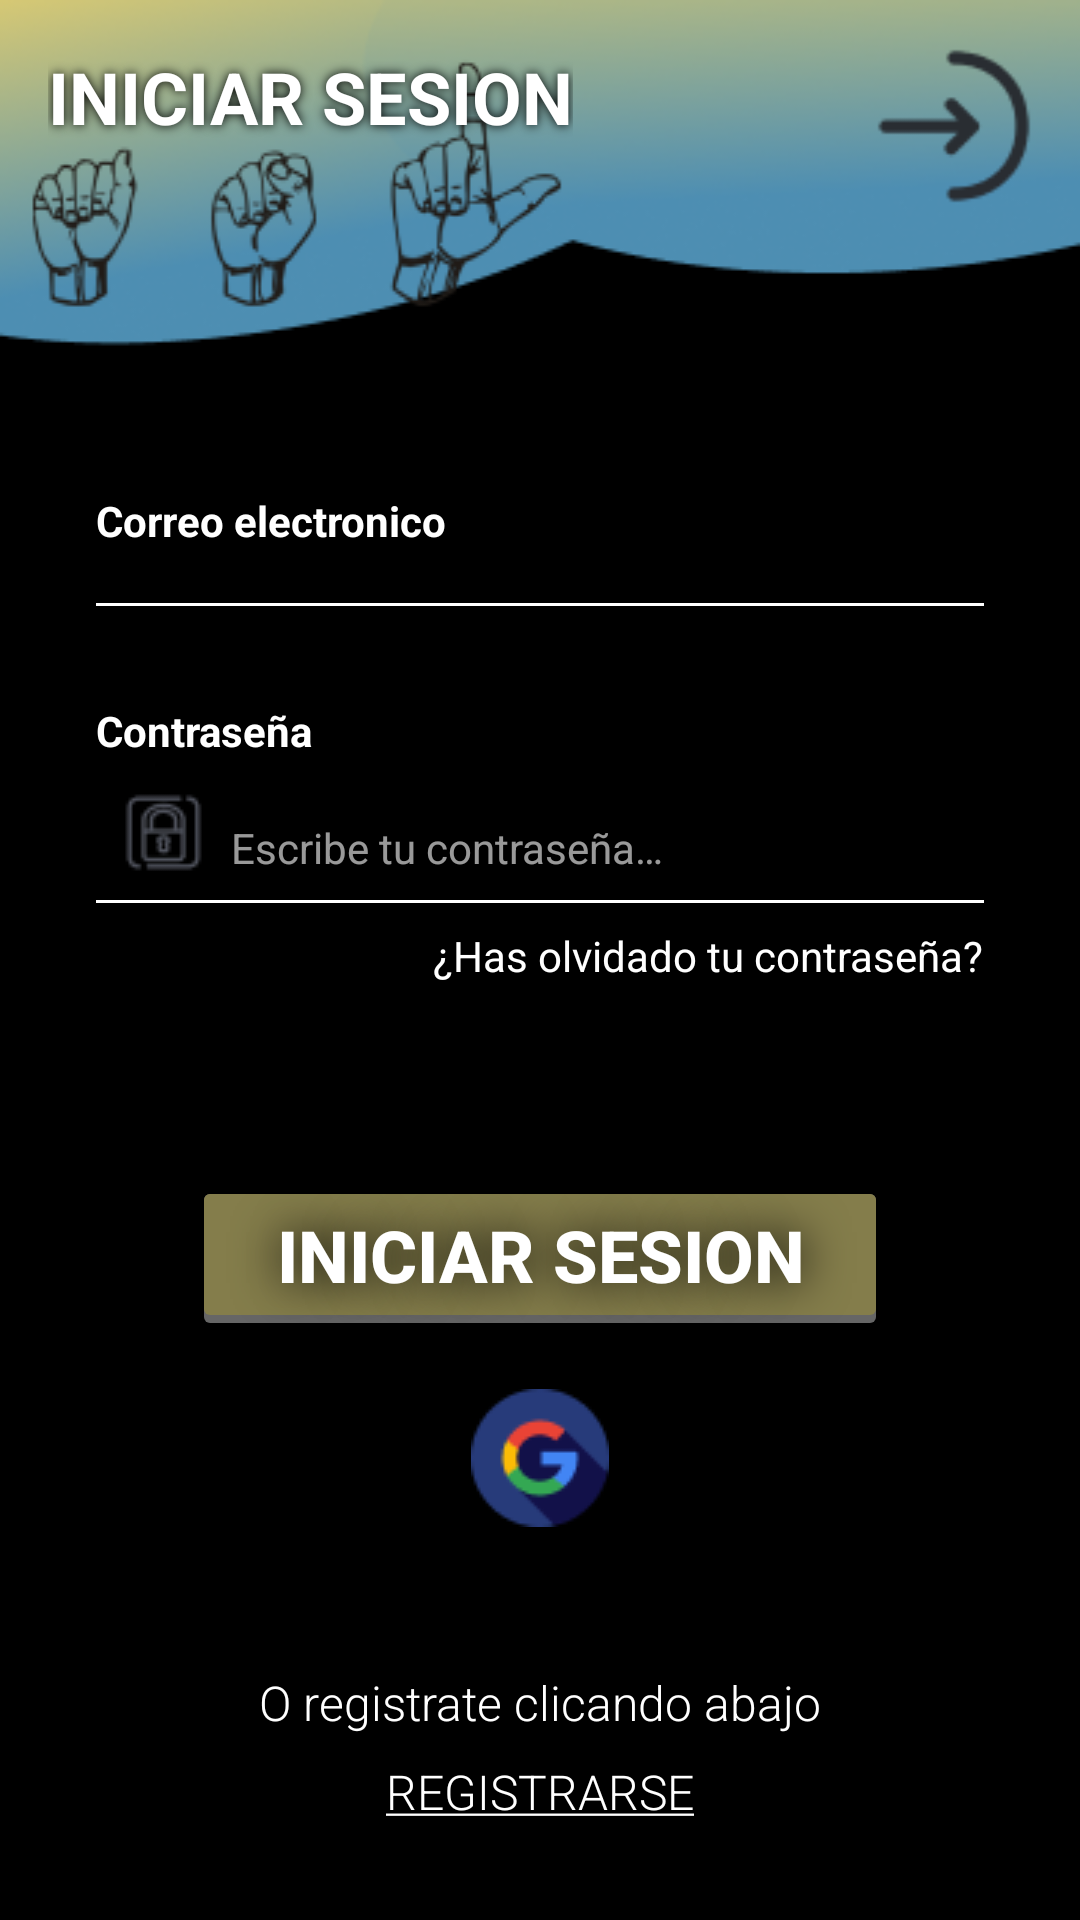

Screen size 1080px×1920px. Icon name, then its center in pixels as (x=x, y=y):
imgpassword: (x=163, y=832)
